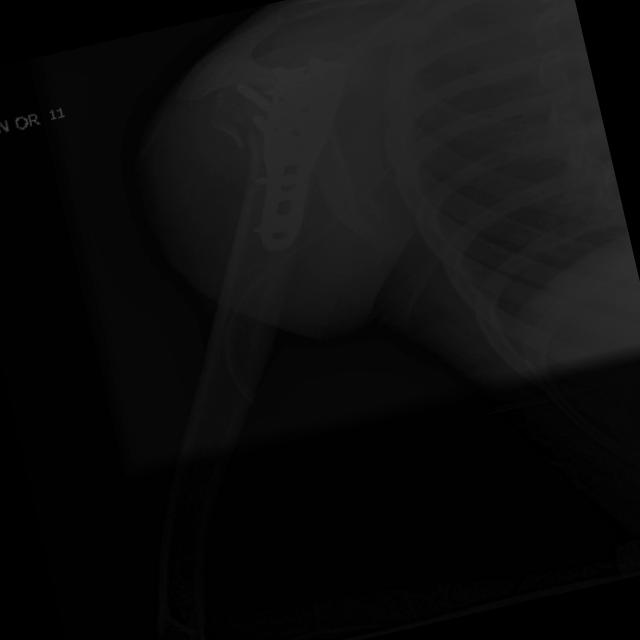shoulder fracture: (201, 115, 278, 187)
